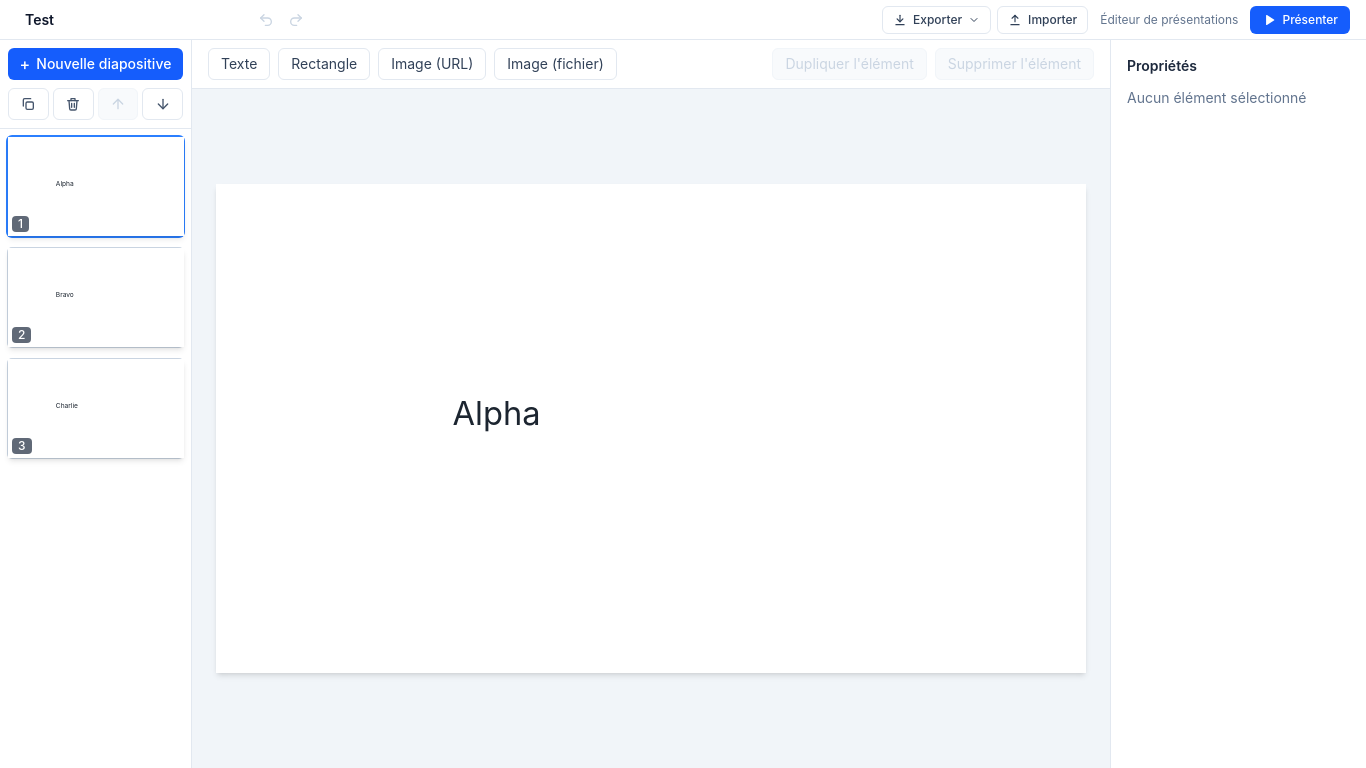
EditorLayout : ajout et sélection d'éléments › cliquer un élément le sélectionne
The width and height of the screenshot is (1366, 768).
Click the 2nd text "Alpha". click: (496, 413)
box: [452,393,540,433]
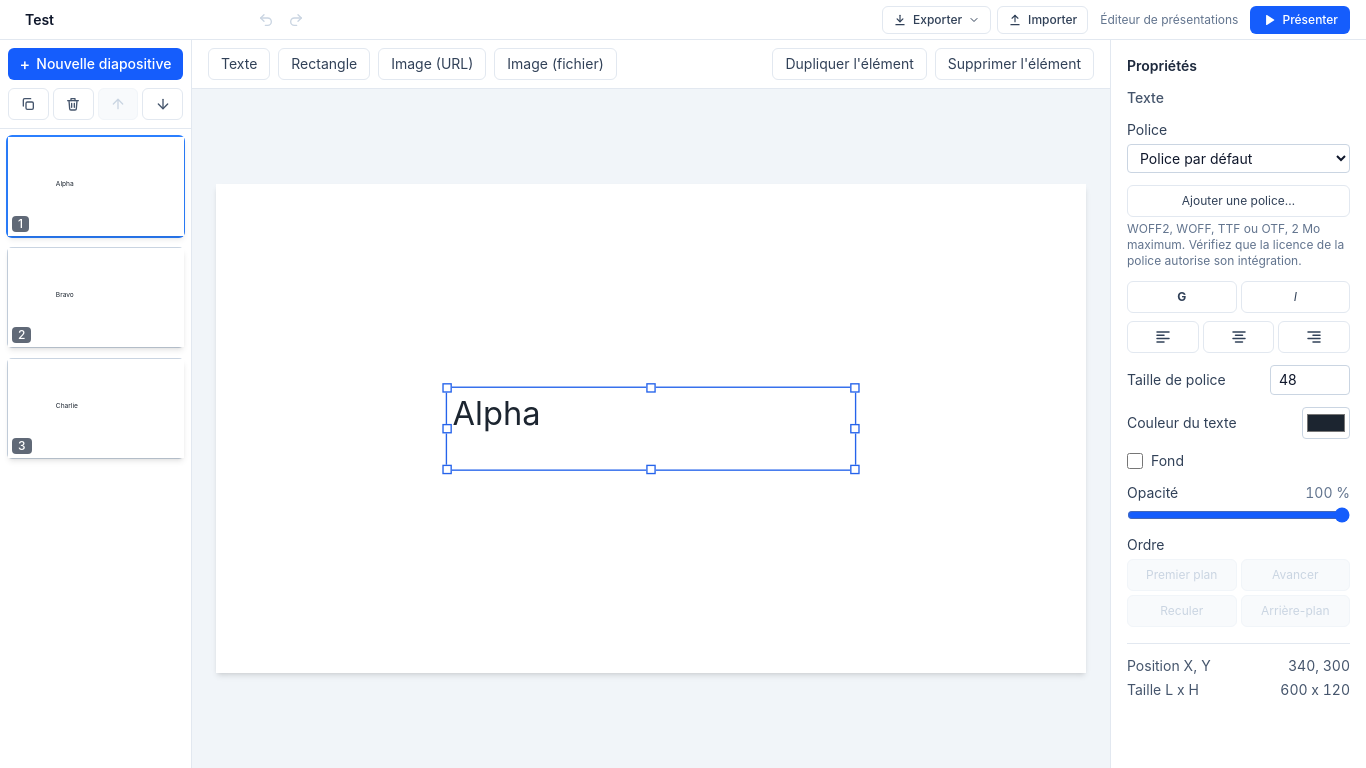
Check: the heading "Texte" is shown, box [1127,89,1164,106]
Check: the number of elements with test id "selection-frame" is 1, box [447,388,855,469]
Check: the button "Supprimer l'élément" is enabled, box [935,48,1094,80]
